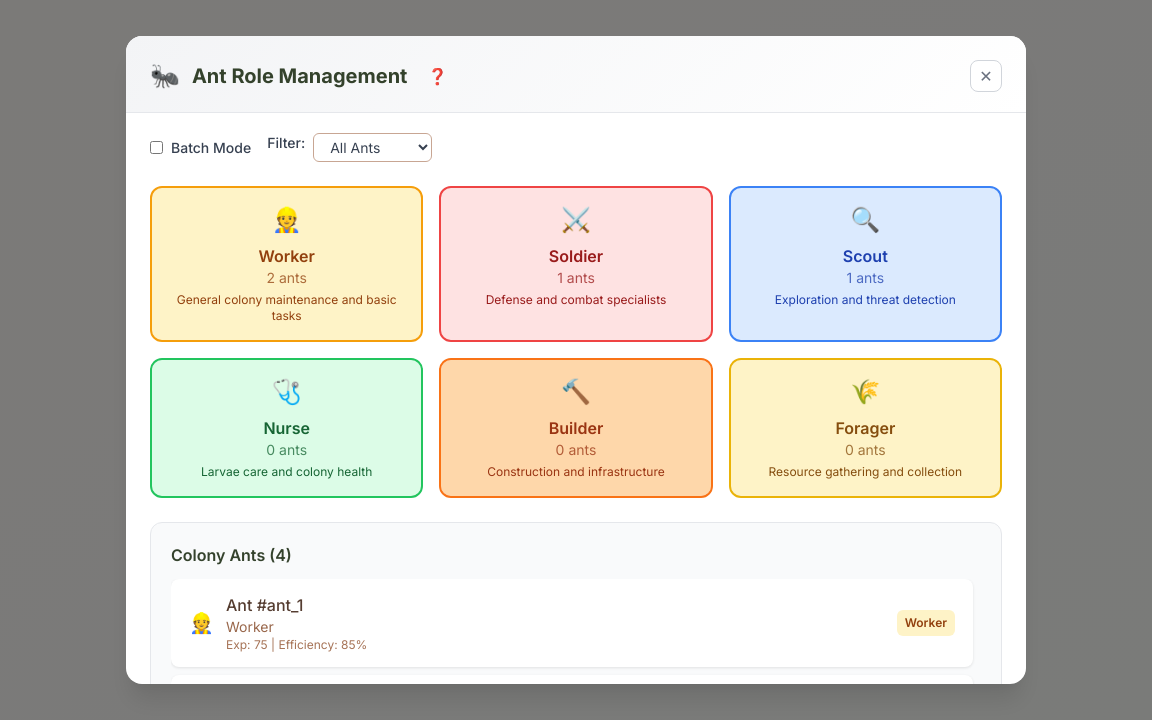
Test case: AntRolePanel › Filtering Functionality › filters ants by role
This screenshot has width=1152, height=720.
Select "👷 Worker" in the dropdown showing "All Ants" at (373, 148), box left=313, top=133, right=432, bottom=162
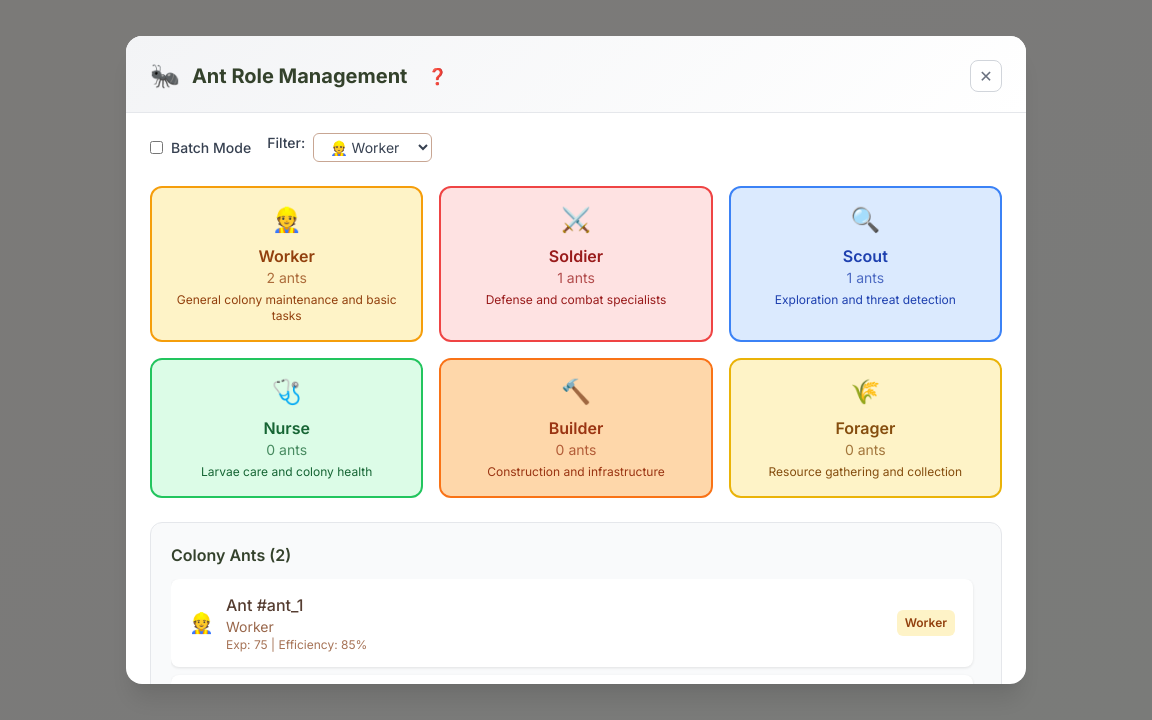
Expected: the text "Ant #ant_1" is shown, left=226, top=595, right=303, bottom=615
Expected: the heading "Colony Ants (2)" is shown, left=171, top=543, right=291, bottom=567
